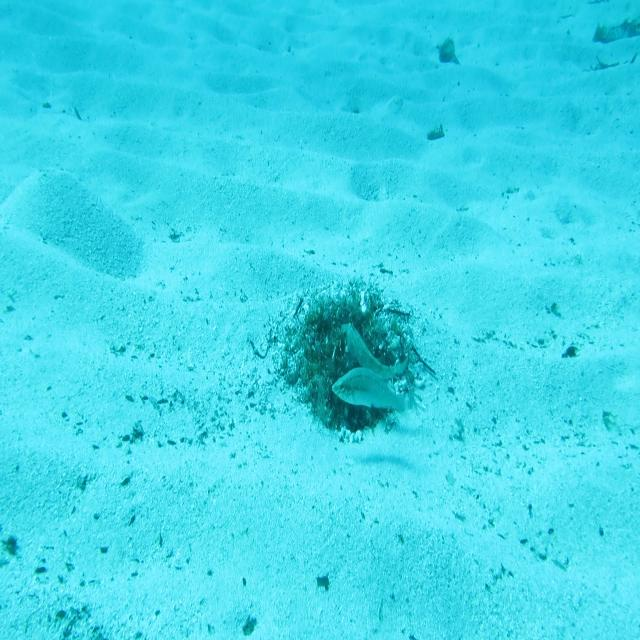FAN: (341, 321, 409, 382)
core_nest: (324, 311, 374, 349)
female: (331, 365, 416, 422)
nest: (276, 268, 430, 448)
vegetation: (590, 16, 640, 42), (434, 37, 460, 68), (426, 120, 446, 144)
